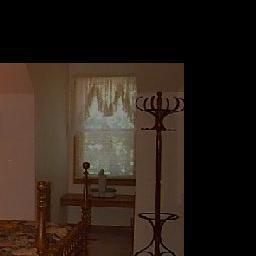Otro Obstaculo: (135, 93, 181, 256)
